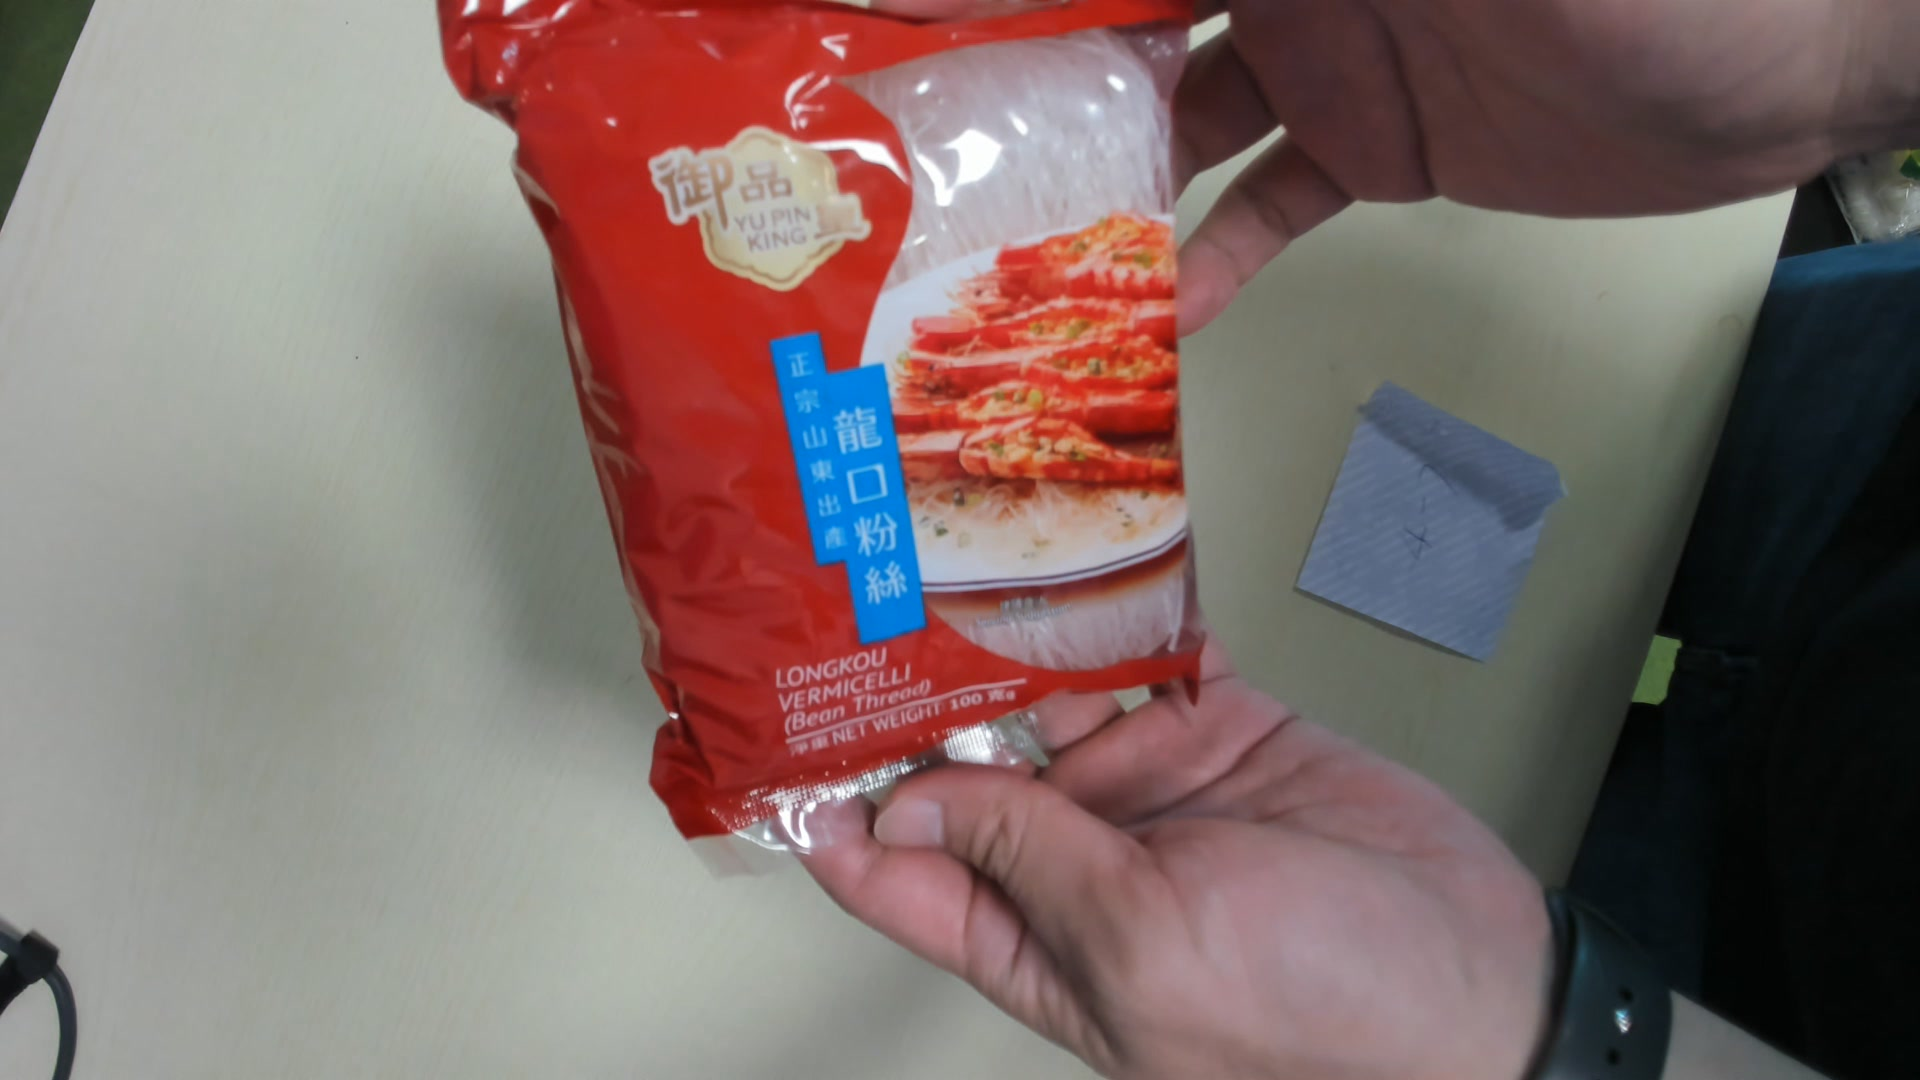BeeHoonVermicelli_100-199g_NonHalal_NonHealthy: (496, 8, 1205, 825)
